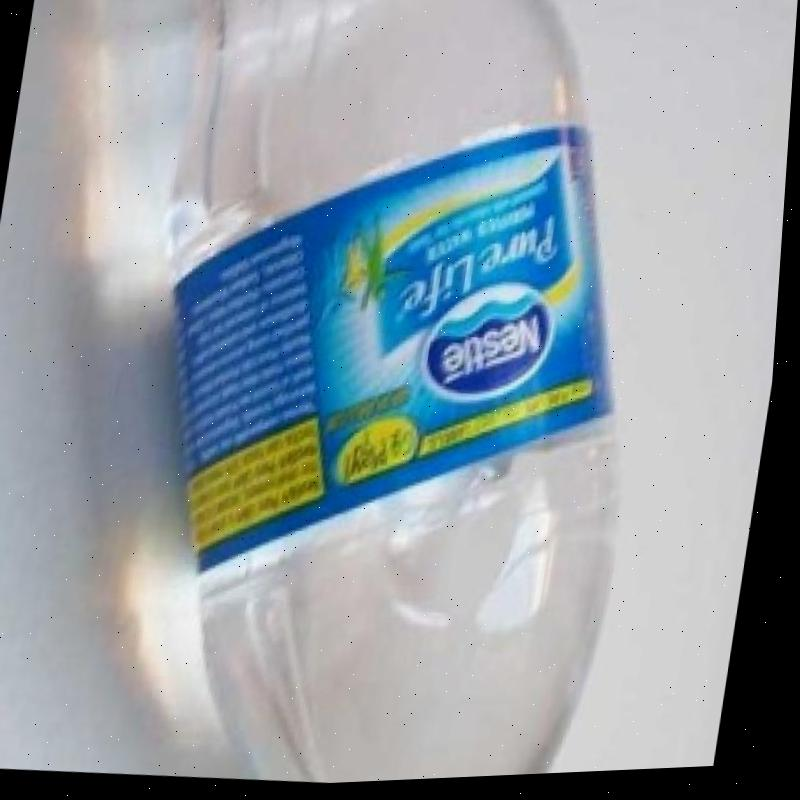botella: (66, 0, 701, 796)
